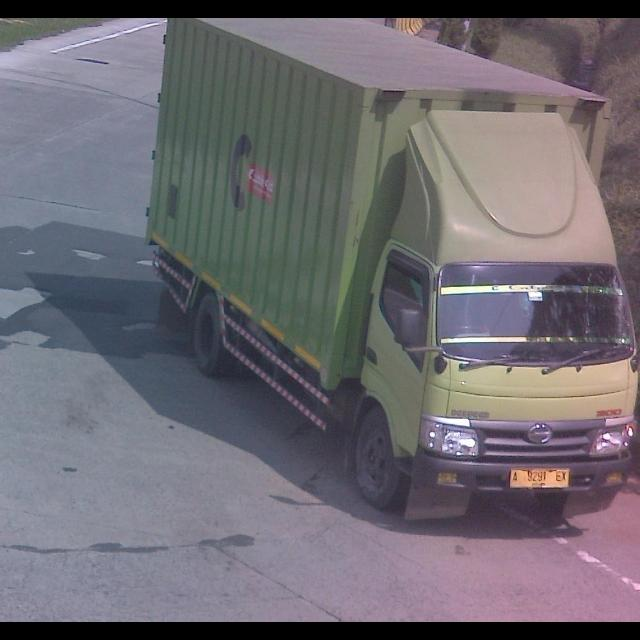plate: (510, 468, 574, 492)
